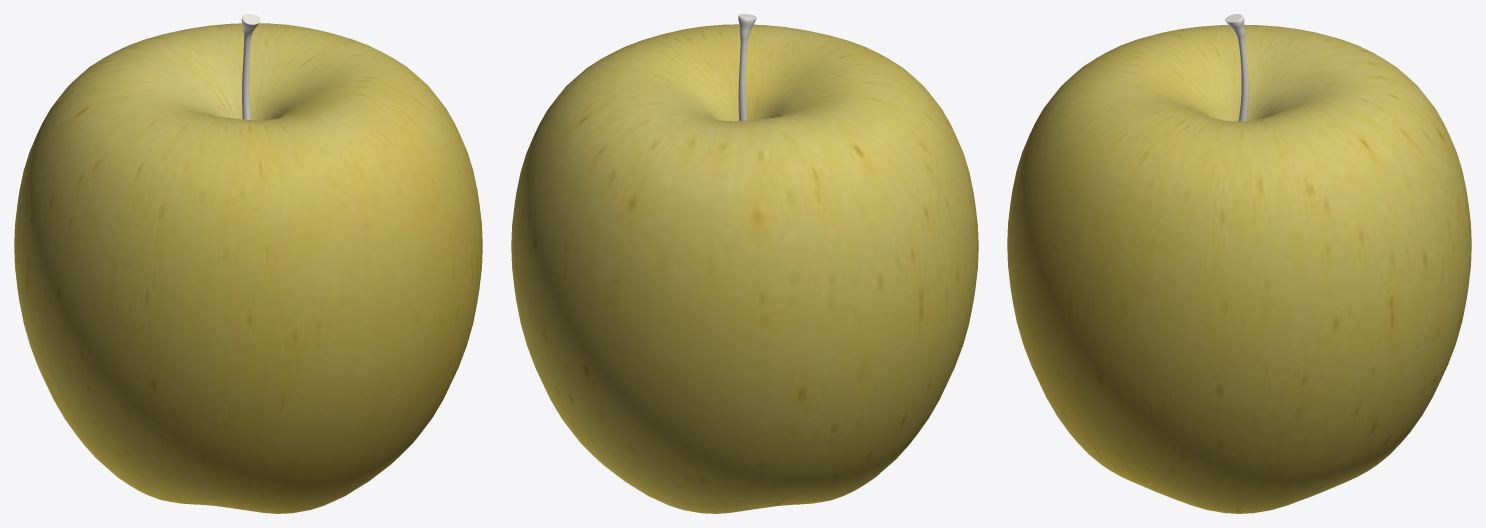
The model's file is SM_YellowApple.fbx.
The picture shows the model from 3 angles, left to right: view 1: azimuth 30°, elevation 25°; view 2: azimuth 150°, elevation 25°; view 3: azimuth 270°, elevation 25°; orthographic projection.
Visible parts, largest first — view 1: YellowApplePeel, YellowAppleStalk; view 2: YellowApplePeel, YellowAppleStalk; view 3: YellowApplePeel, YellowAppleStalk.
Part boxes in pixels (bbox=[...]): YellowApplePeel: bbox=[14, 23, 482, 513]; YellowAppleStalk: bbox=[241, 14, 260, 119]; YellowApplePeel: bbox=[511, 24, 978, 513]; YellowAppleStalk: bbox=[738, 14, 756, 120]; YellowApplePeel: bbox=[1007, 24, 1471, 513]; YellowAppleStalk: bbox=[1225, 14, 1248, 121].
Size of what is drawn, in the model's own units: 6.92 by 6.92 by 7.52.
